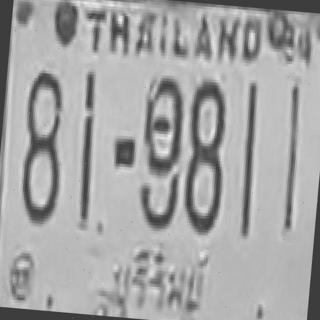N01: (76, 67, 99, 204), (237, 80, 260, 214), (75, 111, 97, 229)
N08: (17, 69, 69, 225), (180, 76, 230, 235)
N09: (134, 75, 187, 231)
P06: (102, 235, 214, 320)
